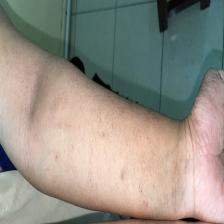Dermatitis kontak alergi: (189, 111, 210, 196)
